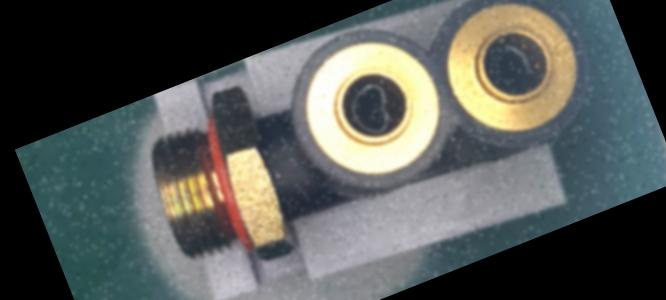off-centered: (334, 73, 408, 146), (480, 29, 546, 97)
